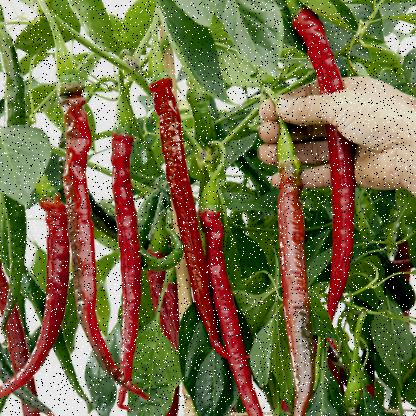chili: (149, 78, 213, 328), (60, 82, 106, 366), (195, 200, 258, 407), (104, 130, 147, 407), (274, 167, 312, 404), (28, 190, 69, 380)
